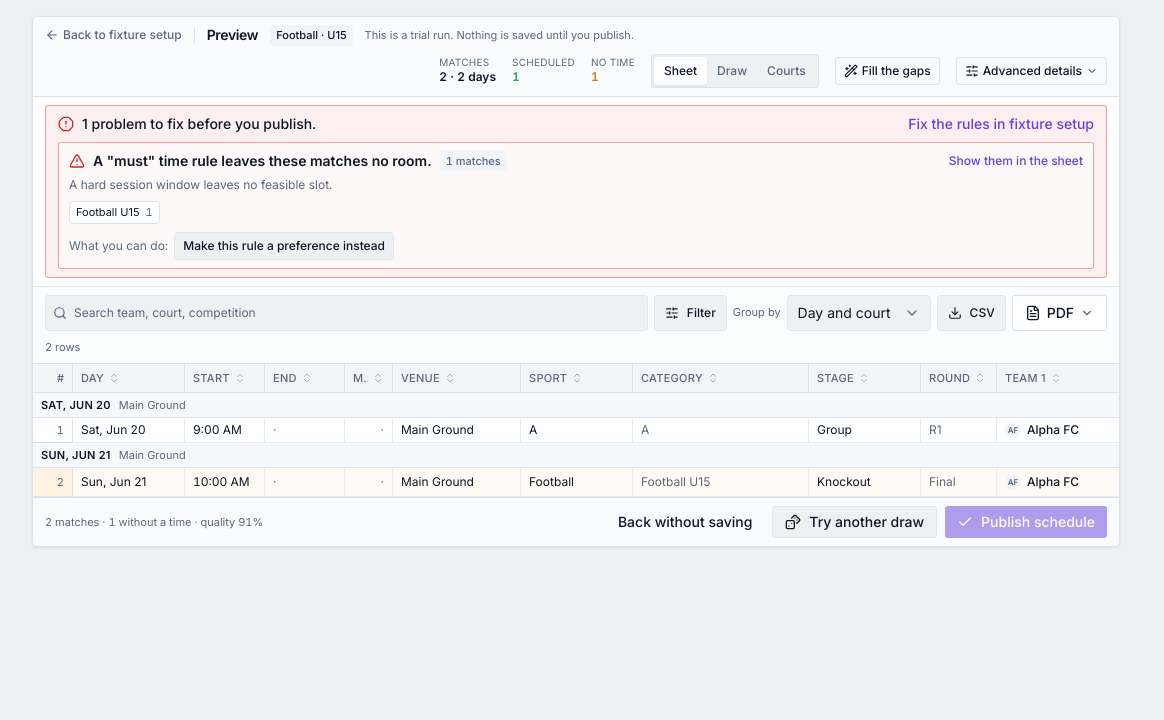
Test: DryRunPreviewPage › a hard violation blocks publishing and offers the one-click preference fix
The width and height of the screenshot is (1164, 720).
expect the element with test id "soft-score" shows "1 problem to fix before you publish.": met, box [82,114,316,132]
expect the button with test id "fix-rules-link" is shown: met, box [908,114,1094,134]
Click the button with test id "relax-demote_to_soft".
click(284, 246)  # box [174,232,394,260]
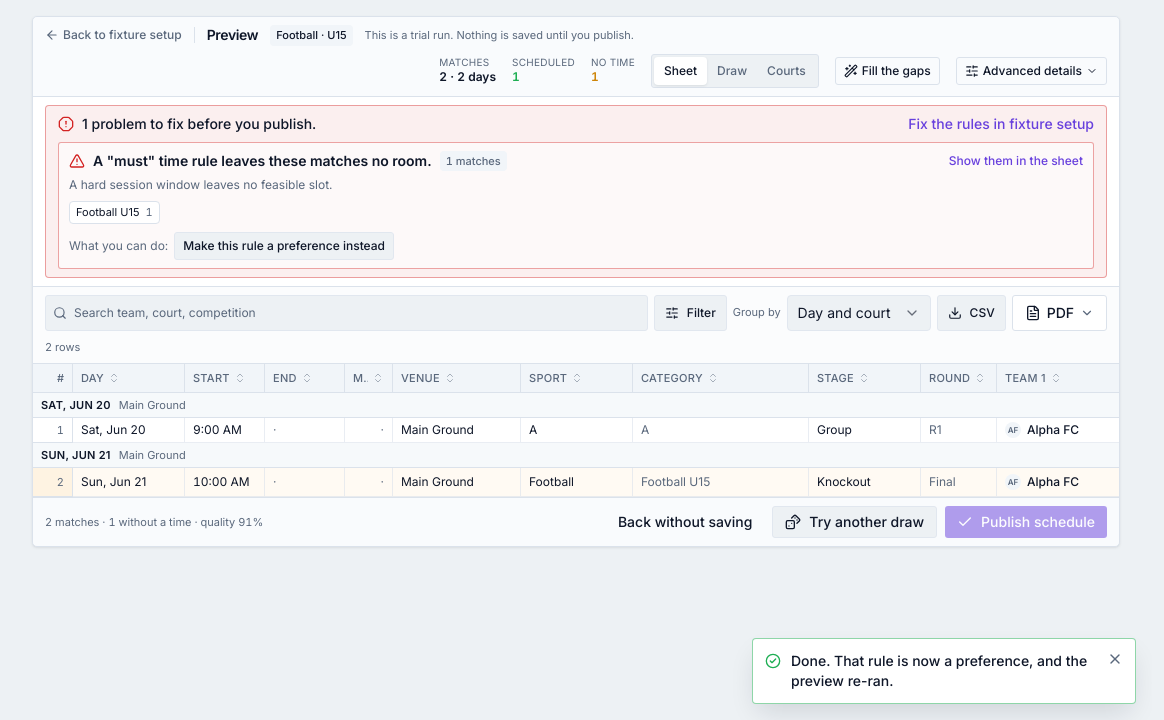
expect the text "Done. That rule is now a preference, and the preview re-ran." is shown: met, box [791,651,1097,691]
